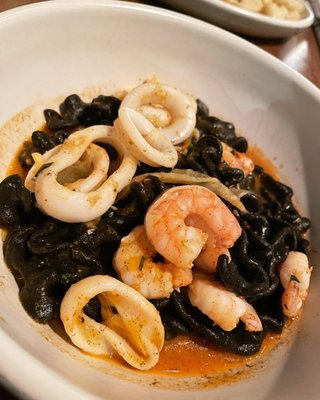sushi: (0, 1, 319, 382), (138, 0, 317, 40)
